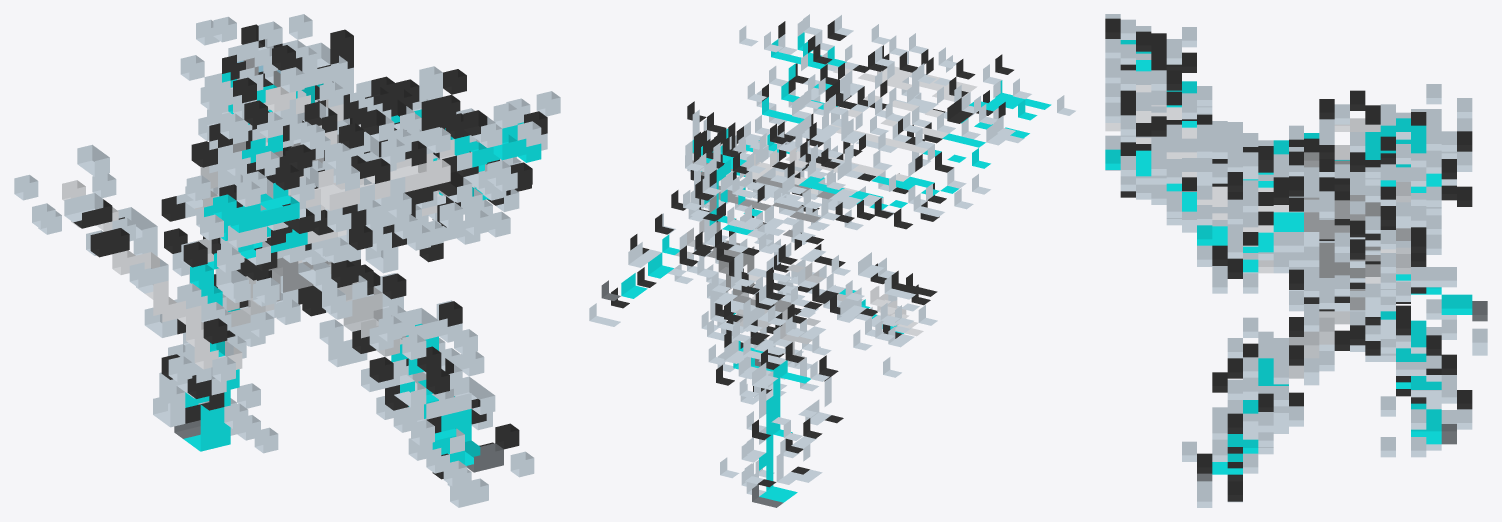
Rendered from ghost.glb.
3 views of the same model, side by side, from view 1: azimuth 30°, elevation 25°; view 2: azimuth 150°, elevation 25°; view 3: azimuth 270°, elevation 25° (orthographic). The views are drawn at different scales.
Parts seen in each view (by area): view 1: Character; view 2: Character; view 3: Character.
Part boxes in pixels (box(x1,y1,x2,y2)): Character: box(14, 14, 560, 507); Character: box(589, 14, 1075, 507); Character: box(1105, 14, 1487, 507).
Bounding box in the file's own units: 1.52 × 1.58 × 1.46.
